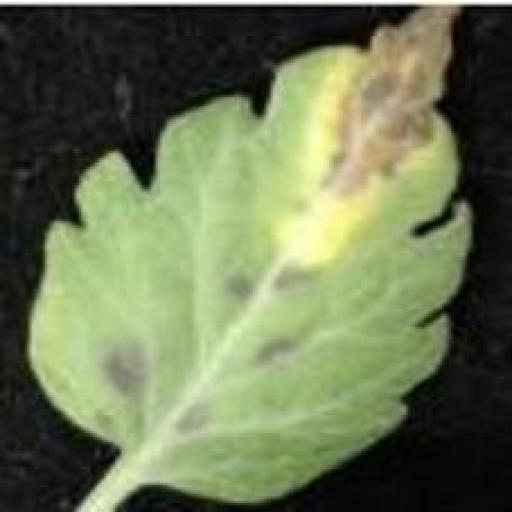Bacterial Spot: (29, 7, 474, 504)
